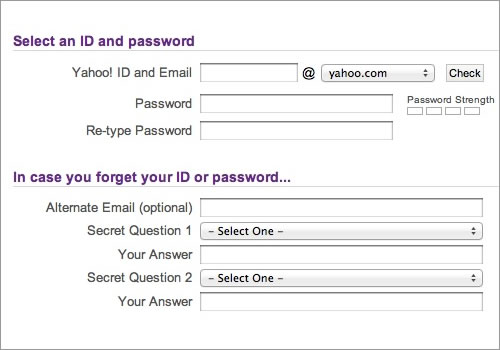_form_: (39, 1, 493, 350)
button: (447, 64, 485, 82)
field: (198, 290, 484, 311), (198, 196, 482, 217), (199, 244, 484, 264), (198, 119, 394, 140), (199, 93, 393, 114), (199, 63, 298, 81)
field_with_label: (46, 194, 483, 218), (119, 289, 484, 312), (88, 221, 484, 241), (88, 267, 483, 287), (119, 243, 485, 264), (87, 117, 395, 141), (136, 92, 394, 115), (73, 62, 299, 83)
select: (199, 222, 483, 240), (199, 269, 482, 286), (321, 63, 435, 82)
